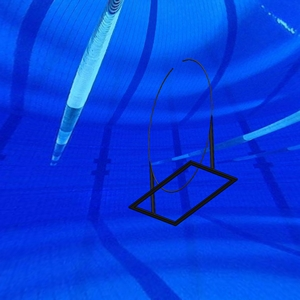circle: (127, 58, 239, 226)
